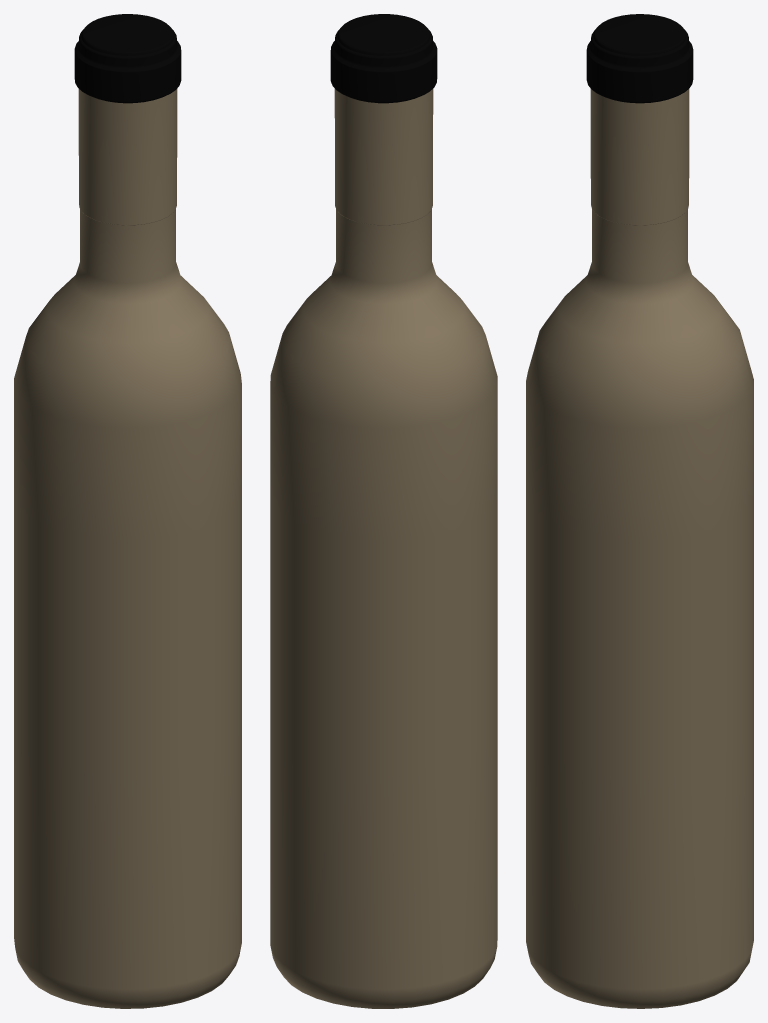
Rendered from museum_assets_11.fbx.
3 renders of one model, left to right at view 1: azimuth 30°, elevation 25°; view 2: azimuth 150°, elevation 25°; view 3: azimuth 270°, elevation 25°, orthographic.
Parts seen in each view (by area): view 1: sise_1; view 2: sise_1; view 3: sise_1.
Boxes of the visible parts, <box> form: sise_1: <box>14,14,241,1008</box>; sise_1: <box>270,14,497,1008</box>; sise_1: <box>526,14,753,1008</box>.
Bounding box in the file's own units: 0.2224 × 1.01 × 0.2224.
